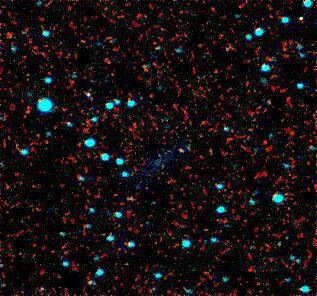star: (285, 2, 315, 32)
